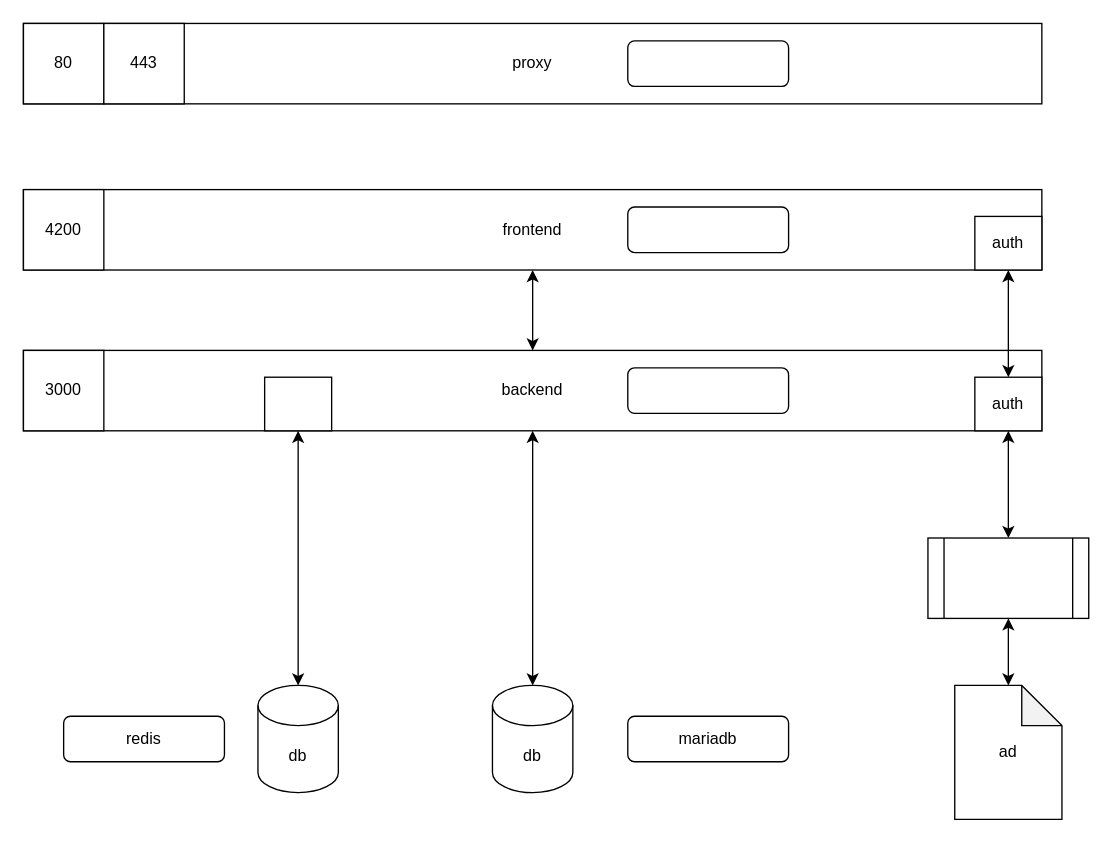
This 1112x843 diagram has some shape labels left out. Each missing label, with the centre of its shape:
"angular" belongs at (x=707, y=229).
"cache" belongs at (x=297, y=403).
"keycloak" belongs at (x=1008, y=577).
"nestjs" belongs at (x=707, y=389).
"opnsense" belongs at (x=707, y=63).
